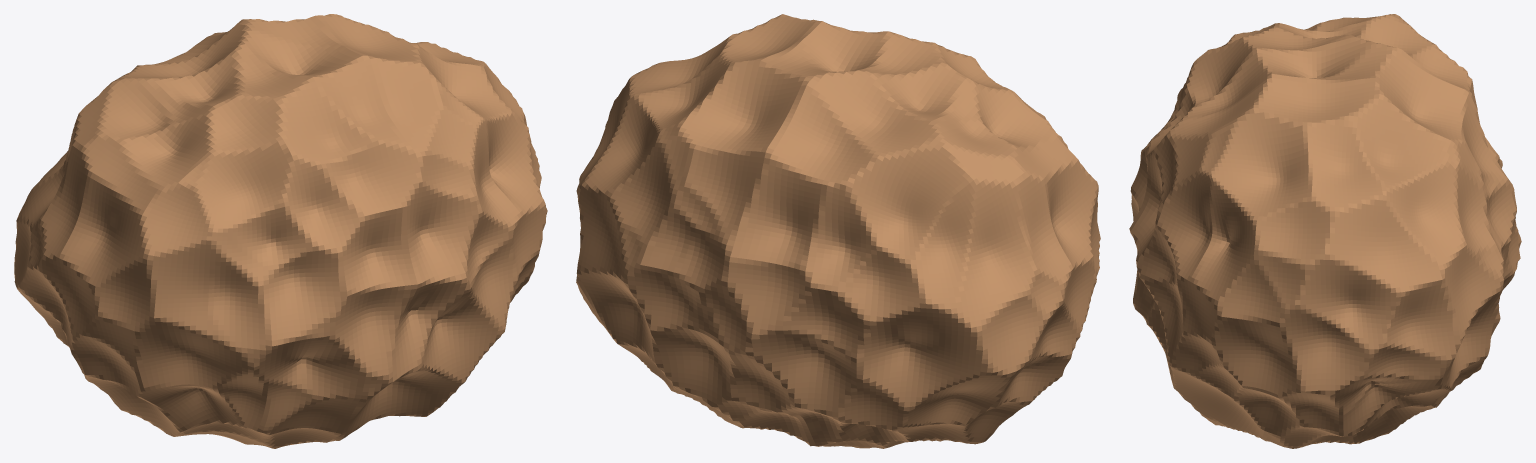
The model's file is Rock-2.glb.
The picture shows the model from 3 angles, left to right: view 1: azimuth 30°, elevation 25°; view 2: azimuth 150°, elevation 25°; view 3: azimuth 270°, elevation 25°; orthographic projection. The views are drawn at different scales.
Parts seen in each view (by area): view 1: Cube; view 2: Cube; view 3: Cube.
Boxes of the visible parts, left/top/right/bottom form: Cube: left=14, top=14, right=547, bottom=448; Cube: left=576, top=14, right=1100, bottom=448; Cube: left=1129, top=14, right=1521, bottom=448.
Size of the model in its own units: 8.5 by 6.52 by 6.44.
